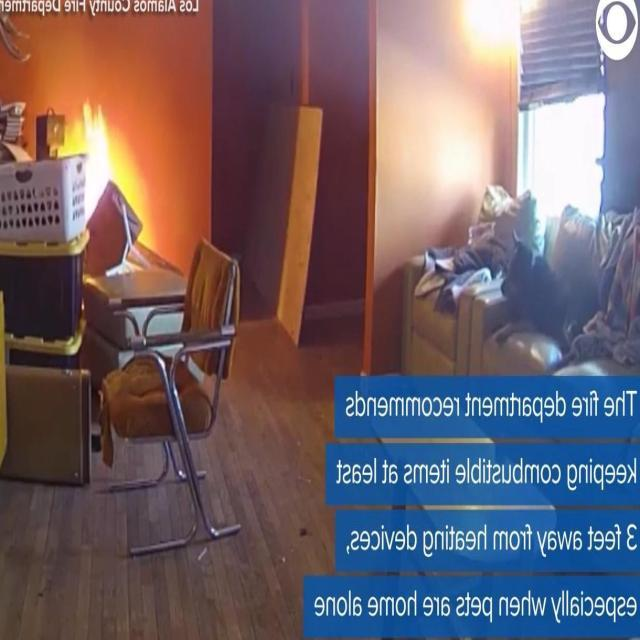smoke: (58, 99, 115, 234)
